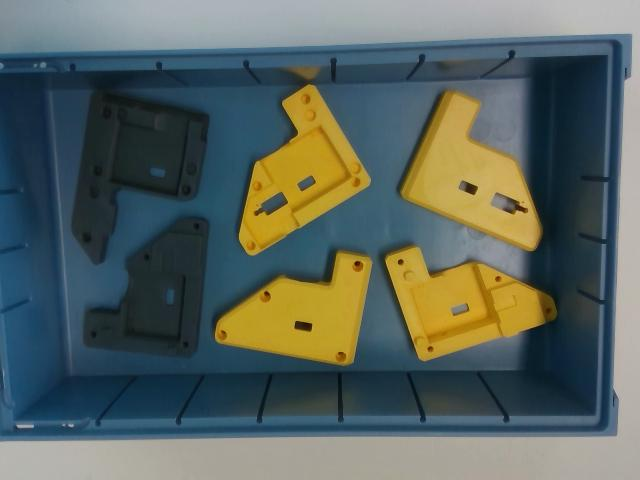1Agray: (82, 213, 211, 356)
1Ayellow: (383, 243, 568, 363), (216, 251, 373, 370)
1Byellow: (398, 92, 549, 250), (235, 87, 371, 254)
3Bgray: (64, 90, 211, 264)
